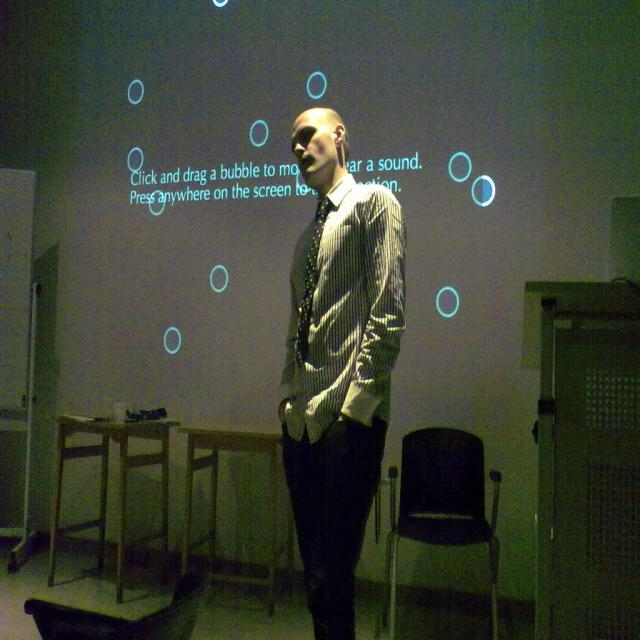chair: (381, 427, 501, 640), (24, 575, 207, 639), (46, 415, 110, 591)
desk: (176, 419, 282, 619)
person: (277, 109, 407, 640)
